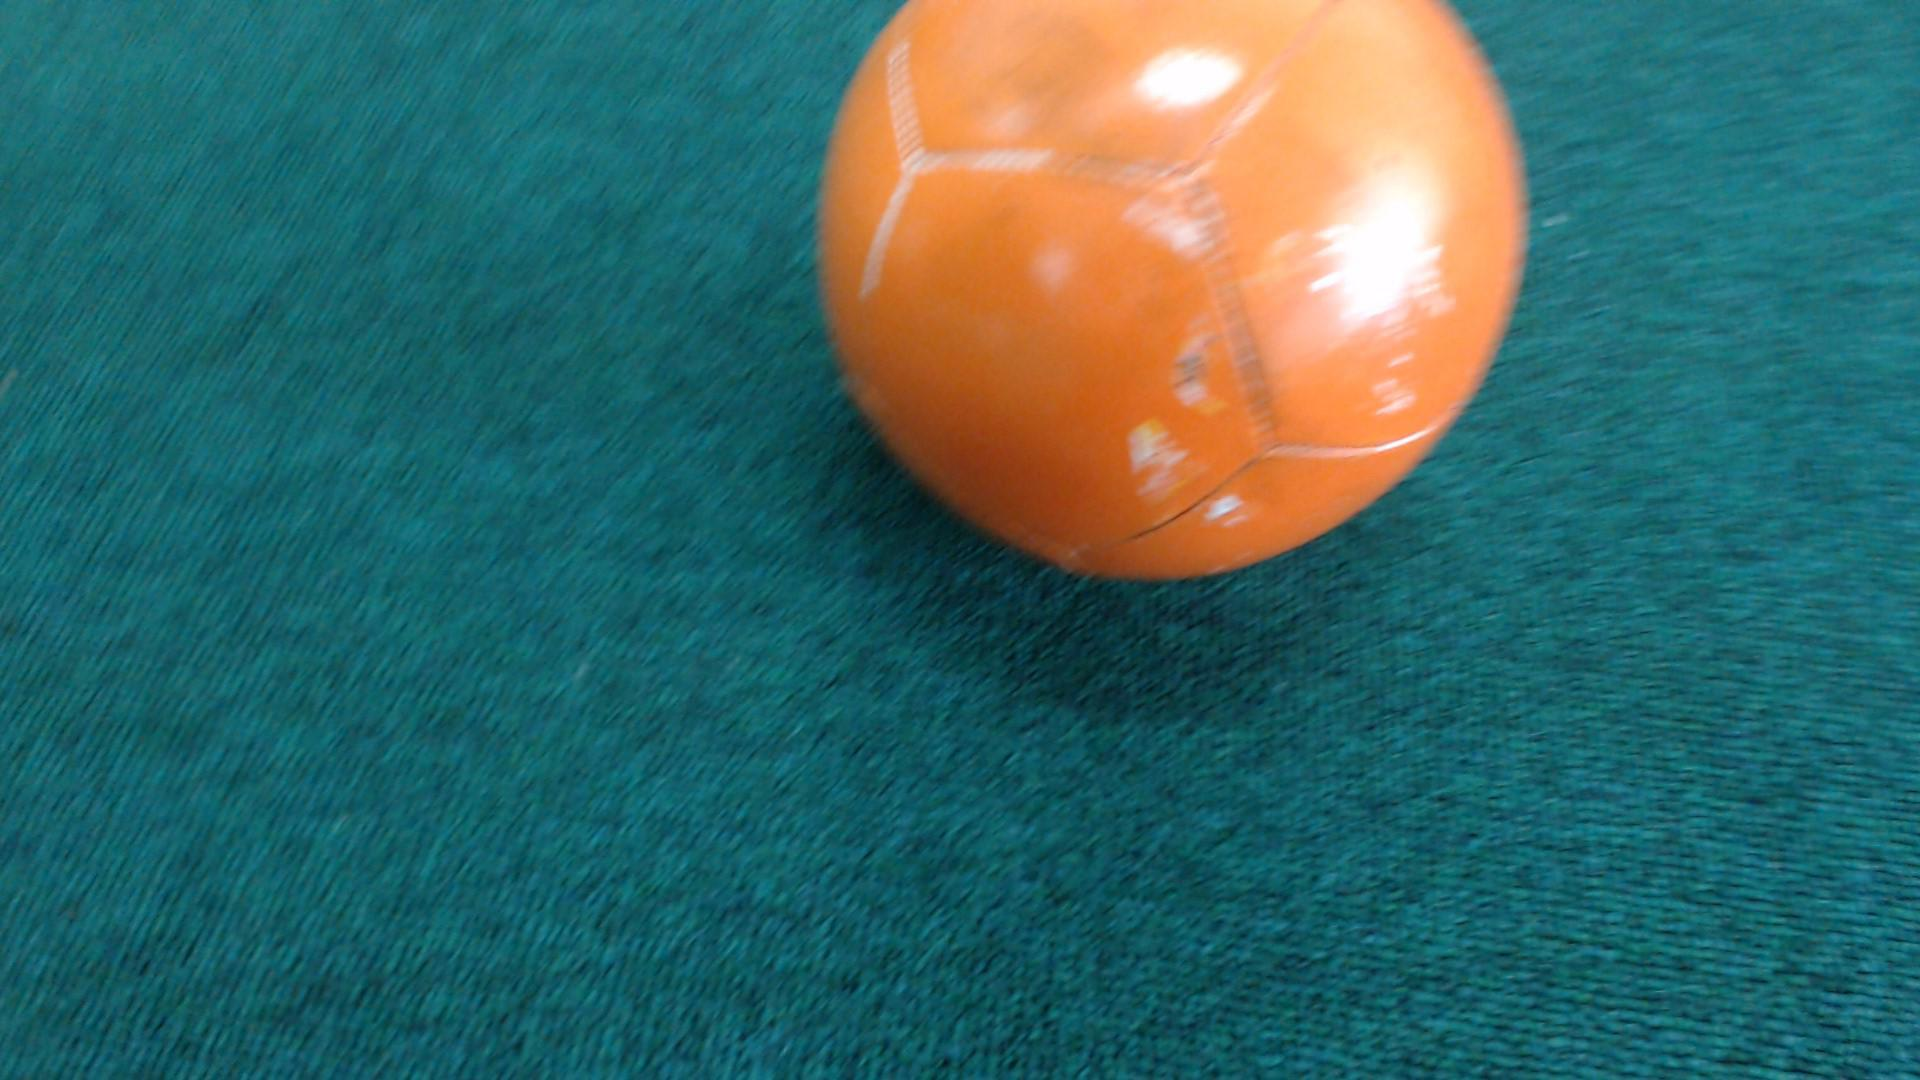bola: (774, 0, 1582, 633)
